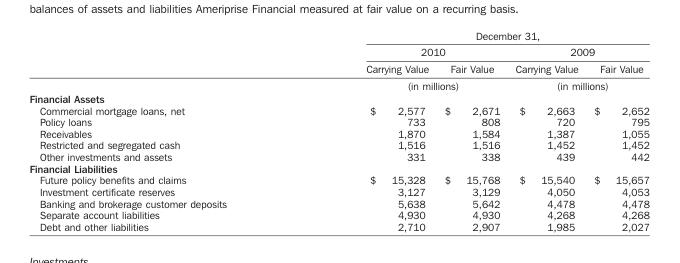table: (28, 28, 648, 232)
table column: (28, 28, 295, 232), (295, 28, 436, 232), (507, 28, 585, 232), (436, 28, 507, 232), (585, 28, 648, 232)
table column header: (28, 28, 648, 91)
table projected row header: (28, 91, 648, 104), (28, 162, 648, 173)
table row: (28, 43, 648, 60), (28, 60, 648, 76), (28, 28, 648, 43), (28, 76, 648, 91), (28, 91, 648, 104), (28, 115, 648, 127), (28, 138, 648, 150), (28, 150, 648, 162), (28, 173, 648, 185), (28, 185, 648, 197), (28, 208, 648, 220), (28, 220, 648, 232), (28, 104, 648, 115), (28, 127, 648, 138), (28, 162, 648, 173), (28, 197, 648, 208)
table spanning cell: (295, 28, 648, 43), (295, 43, 507, 60), (295, 76, 507, 91), (507, 43, 648, 60), (507, 76, 648, 91)
